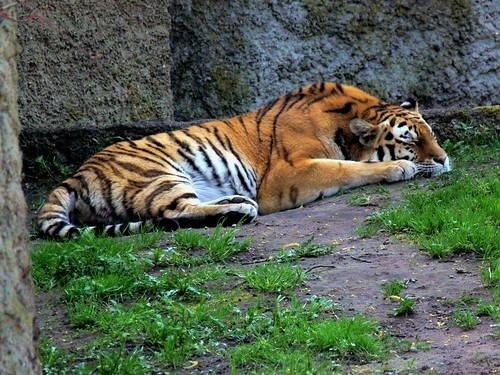tigre: (31, 74, 455, 242)
